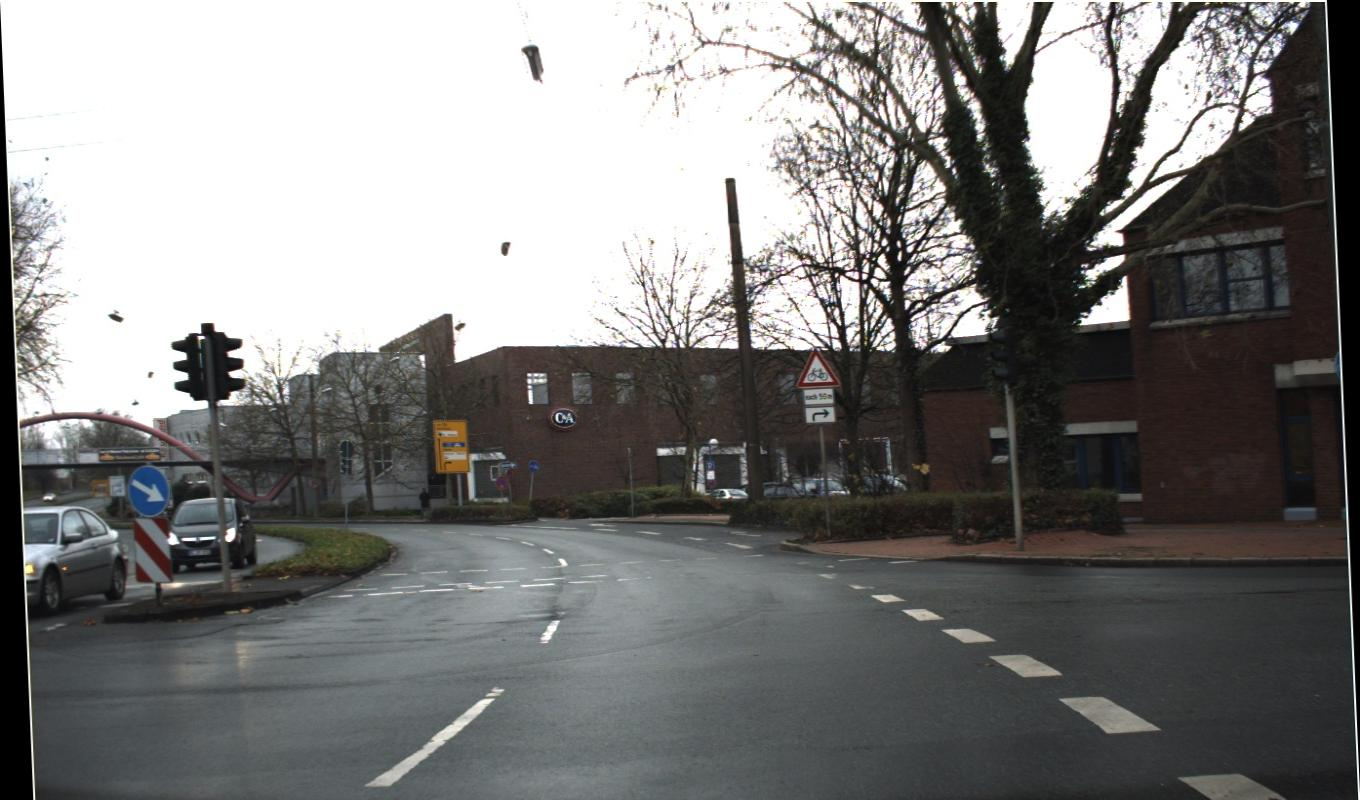cycles crossing: (125, 346, 840, 517)
